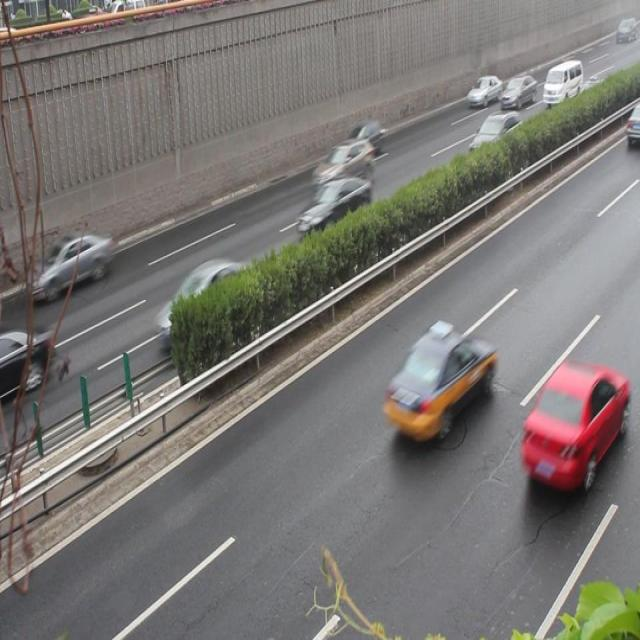car: (517, 359, 624, 487), (381, 326, 490, 438), (155, 257, 252, 346), (23, 229, 110, 303), (295, 176, 370, 233), (0, 324, 53, 399), (309, 135, 372, 190), (466, 108, 520, 160), (337, 117, 382, 158), (497, 71, 533, 107), (464, 72, 500, 106), (624, 101, 640, 149)
